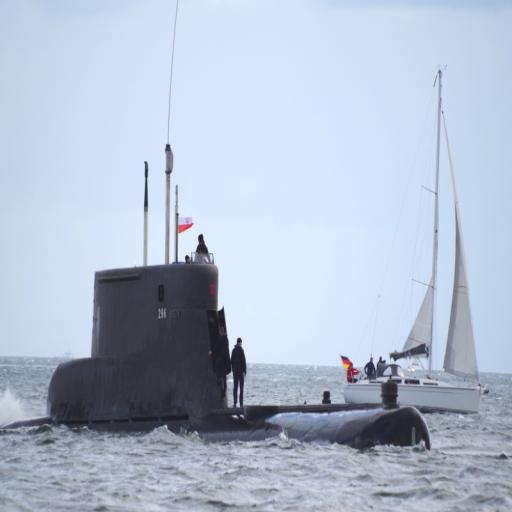submarine: (2, 260, 434, 450)
